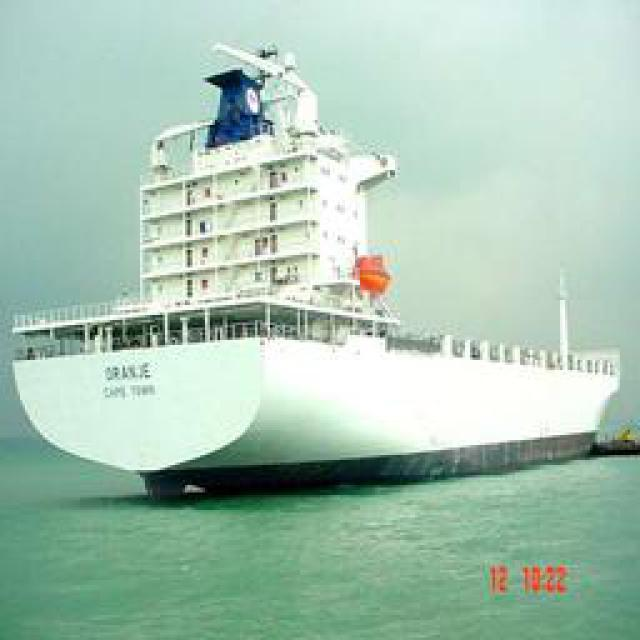Ship: (11, 39, 625, 509)
